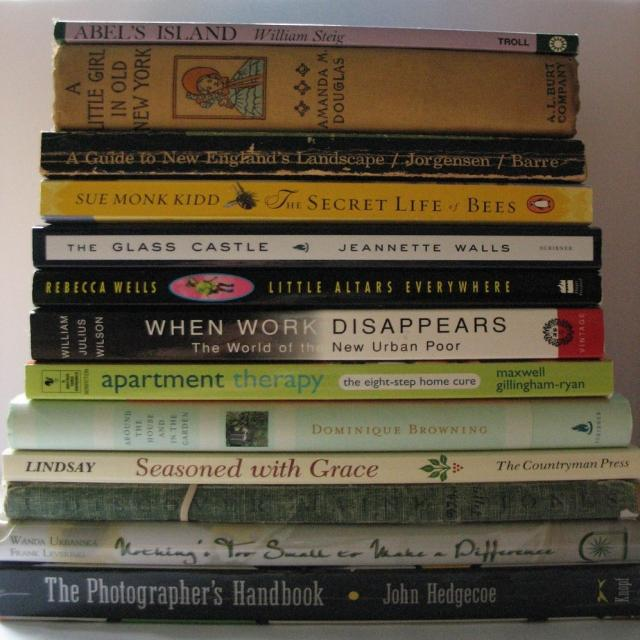book: (49, 27, 575, 136), (0, 559, 634, 624), (12, 392, 631, 448), (2, 473, 636, 525), (2, 516, 638, 567), (27, 307, 608, 360), (8, 443, 634, 488), (41, 130, 587, 180), (23, 357, 618, 401), (32, 264, 600, 308), (43, 182, 594, 222), (39, 227, 599, 264), (51, 18, 572, 44)
